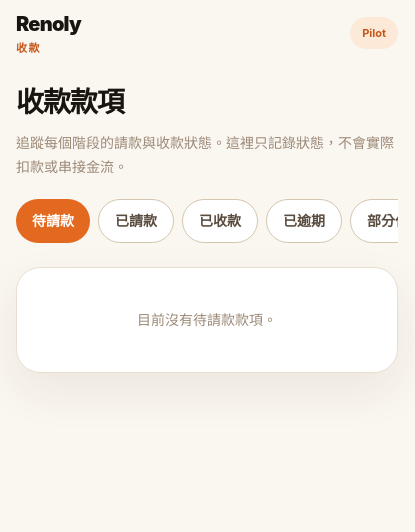
PaymentsView › shows a paid milestone's payment method and no overdue-days line
The width and height of the screenshot is (415, 532).
Step 1. Click the tab "已收款" → (220, 220), box [182,198,258,242]
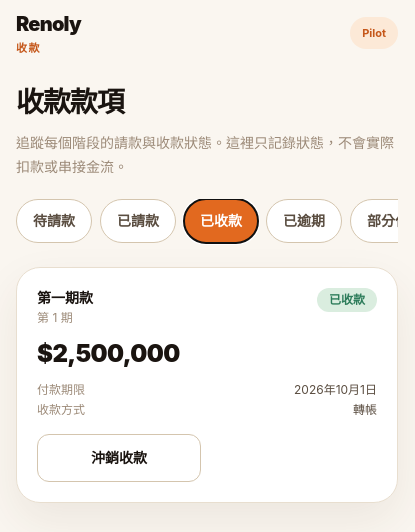
Expected: the text "轉帳" is shown, [353,402,377,418]
